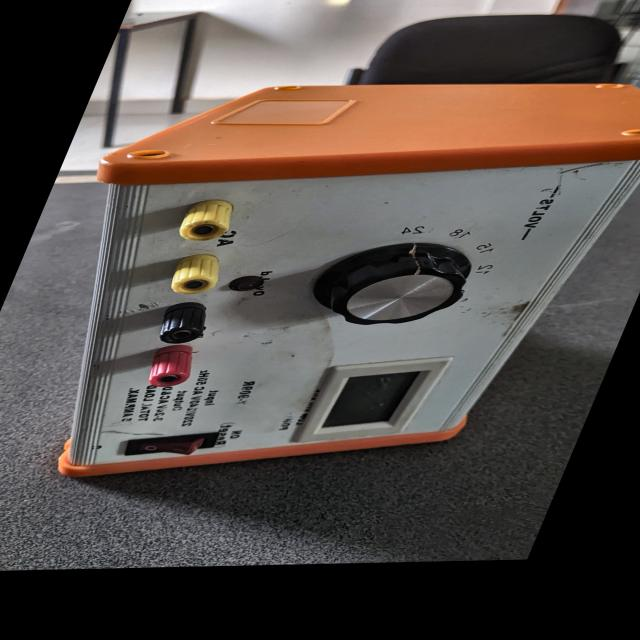AC and DC Power Supply 24V: (0, 65, 640, 487)
